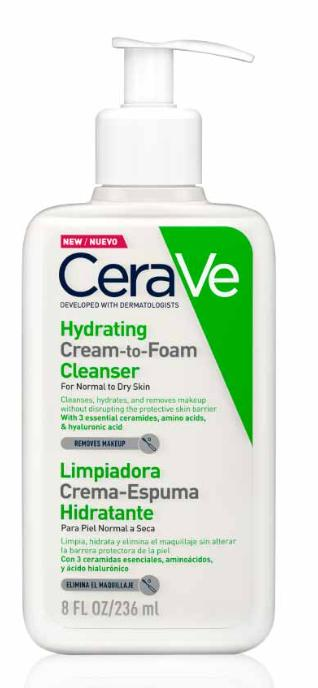brand: (58, 250, 242, 300)
net_weight: (115, 598, 161, 619)
product_name: (57, 456, 205, 523)
